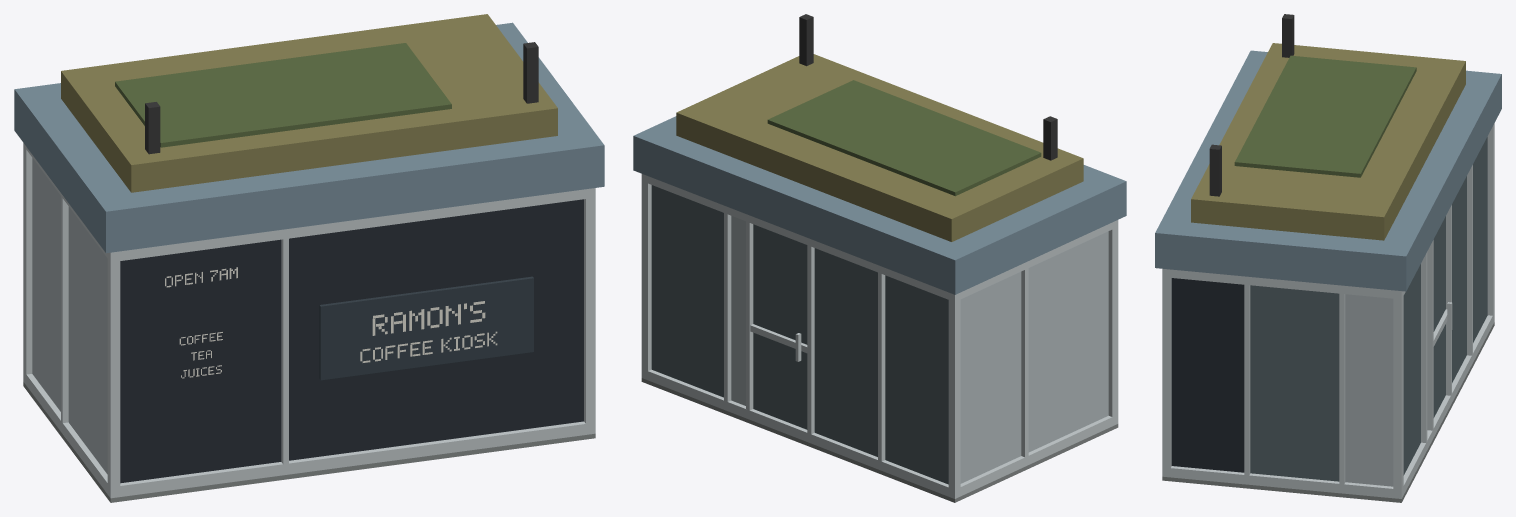
The model's file is kiosk-ramons-coffee.glb.
The picture shows the model from 3 angles, left to right: view 1: azimuth 30°, elevation 25°; view 2: azimuth 150°, elevation 25°; view 3: azimuth 270°, elevation 25°; orthographic projection. The views are drawn at different scales.
Parts seen in each view (by area): view 1: kiosk-ramons-coffee; view 2: kiosk-ramons-coffee; view 3: kiosk-ramons-coffee.
Boxes of the visible parts, x1,y1,x2,y2 form: kiosk-ramons-coffee: (14,14,604,502); kiosk-ramons-coffee: (633,14,1126,502); kiosk-ramons-coffee: (1155,14,1501,502).
Size of the model in its own units: 5.66 by 4.1 by 4.03.
